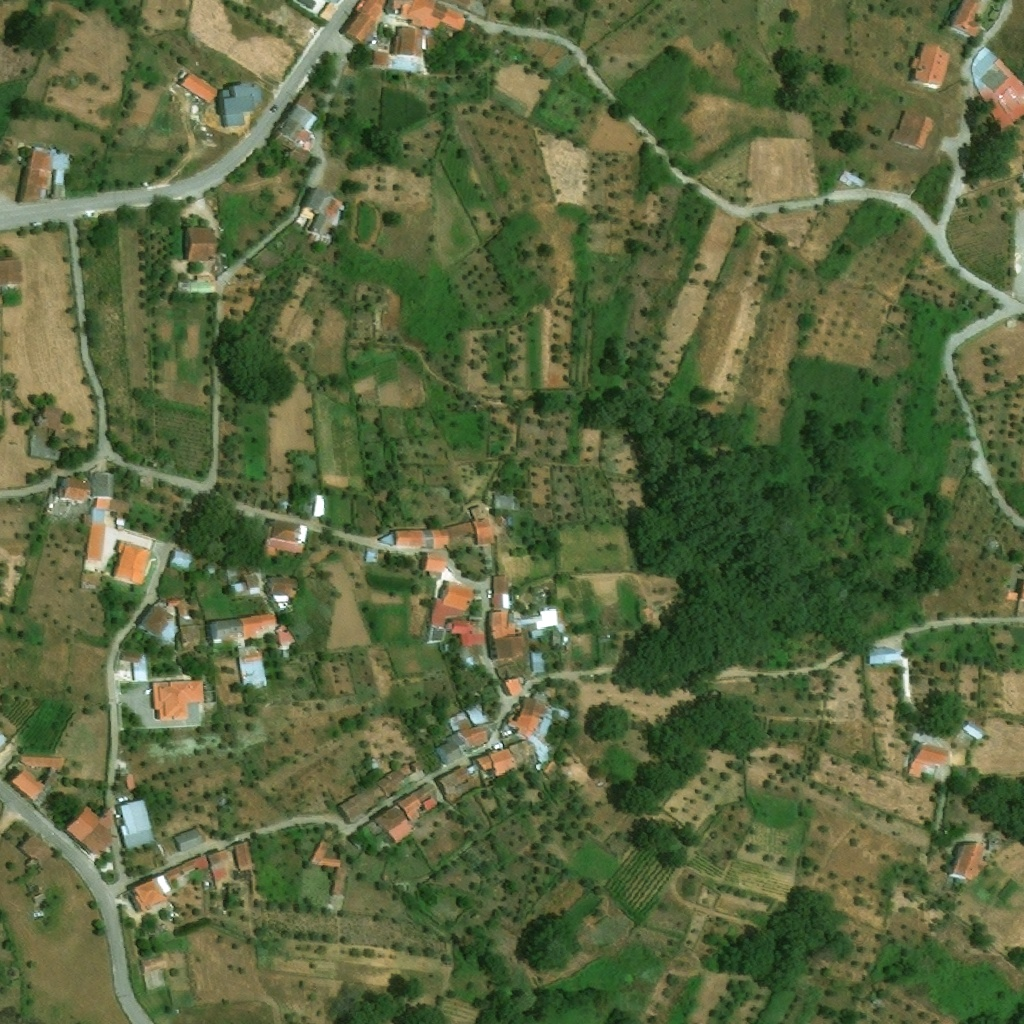0 no-damage: (979, 57, 1023, 131), (394, 0, 467, 42), (274, 103, 318, 165), (299, 187, 345, 246), (65, 804, 115, 857), (341, 0, 389, 46), (152, 679, 205, 720), (338, 782, 389, 824), (16, 147, 53, 202), (217, 82, 261, 128), (425, 596, 468, 643), (117, 797, 155, 850), (906, 42, 950, 87), (486, 610, 524, 661), (113, 539, 152, 585), (377, 761, 424, 797), (889, 110, 934, 147), (374, 804, 415, 844), (132, 873, 172, 913), (507, 697, 547, 736), (398, 783, 440, 819), (265, 520, 309, 554), (908, 742, 949, 778), (947, 842, 986, 879), (389, 25, 435, 56), (164, 852, 209, 882), (10, 763, 46, 799), (951, 0, 986, 37), (142, 604, 177, 641), (179, 70, 218, 102), (476, 746, 517, 775), (184, 226, 220, 259), (309, 840, 347, 871), (238, 651, 267, 691), (435, 766, 471, 798), (394, 528, 448, 549), (119, 651, 154, 682), (470, 505, 495, 548), (237, 612, 281, 636), (441, 581, 474, 613), (434, 736, 465, 767), (90, 472, 114, 511), (457, 723, 490, 751), (172, 826, 206, 853), (530, 608, 559, 639), (20, 835, 52, 863), (19, 752, 63, 772), (86, 521, 107, 561), (209, 847, 233, 882), (444, 520, 474, 548), (453, 619, 484, 645), (0, 741, 20, 779), (209, 617, 240, 641), (868, 647, 905, 666), (179, 624, 206, 650), (61, 475, 89, 500), (268, 577, 299, 598), (39, 404, 63, 431), (0, 256, 21, 286), (493, 576, 511, 610), (233, 841, 254, 870), (52, 151, 69, 186), (466, 703, 489, 725), (168, 549, 192, 570), (276, 623, 297, 647), (448, 712, 472, 732), (423, 554, 448, 573), (961, 721, 983, 742), (494, 493, 516, 512), (330, 870, 346, 895), (167, 597, 186, 618), (503, 677, 524, 696), (139, 957, 165, 972), (319, 1, 338, 21), (530, 652, 547, 673), (840, 172, 865, 186), (313, 495, 326, 518), (121, 773, 136, 790), (243, 572, 258, 589), (372, 53, 388, 66), (230, 583, 244, 593), (205, 564, 217, 574)
4 un-classified: (1006, 578, 1023, 602), (289, 0, 321, 12), (0, 733, 7, 743)
